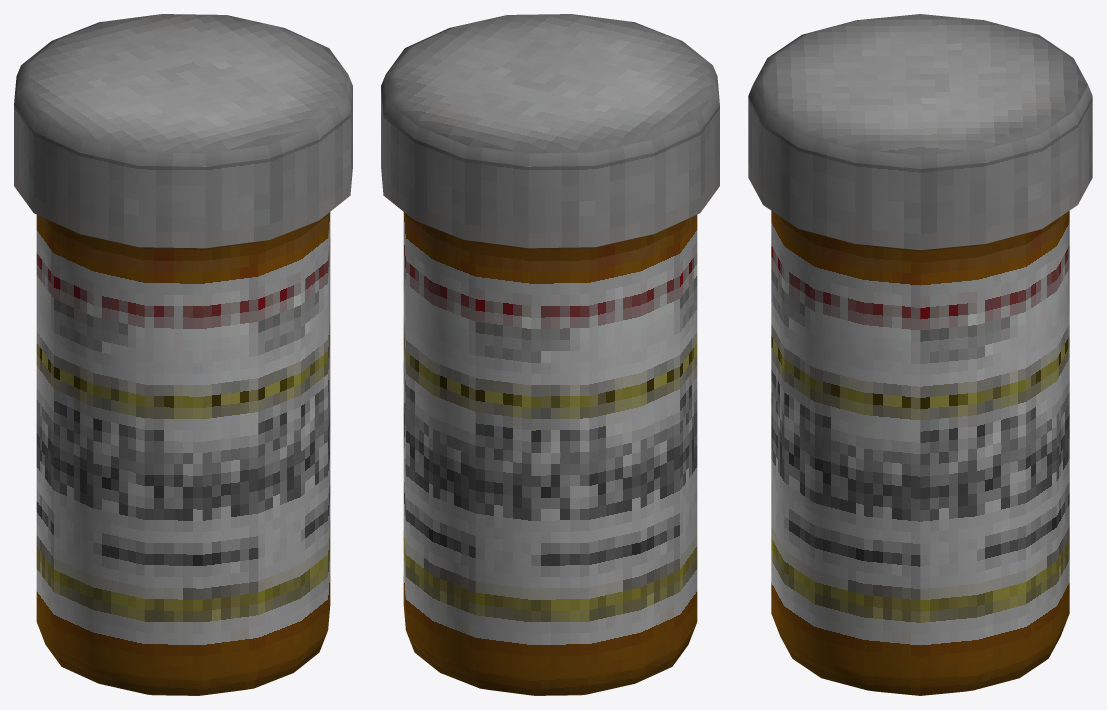
File: pills_bottle_1_2.obj
The picture shows the model from 3 angles, left to right: view 1: azimuth 30°, elevation 25°; view 2: azimuth 150°, elevation 25°; view 3: azimuth 270°, elevation 25°; orthographic projection.
Parts seen in each view (by area): view 1: pills_bottle_1_2; view 2: pills_bottle_1_2; view 3: pills_bottle_1_2.
Boxes of the visible parts, x1,y1,x2,y2 form: pills_bottle_1_2: (14,14,352,695); pills_bottle_1_2: (381,14,719,695); pills_bottle_1_2: (748,14,1092,695).
Size of the model in its own units: 2.01 by 3.64 by 2.01.
Materials: 1 (1 with a texture image).
